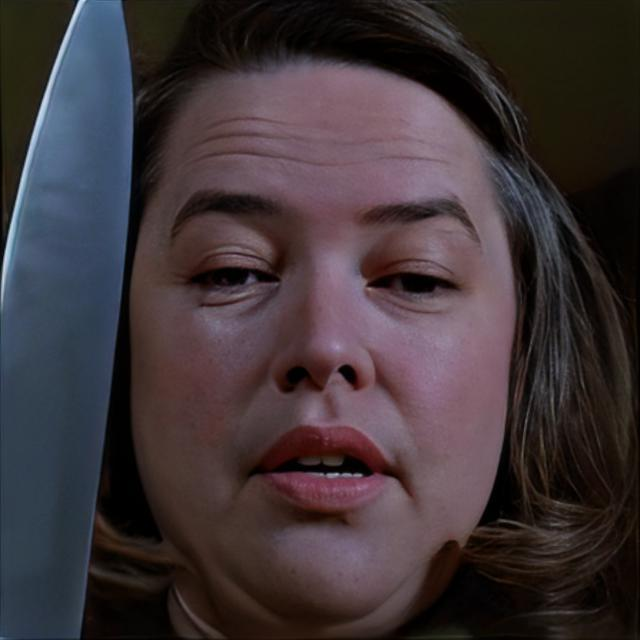surprise: (128, 57, 518, 619)
